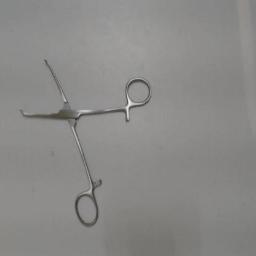Allis Tissue Forceps: (16, 52, 156, 234)
